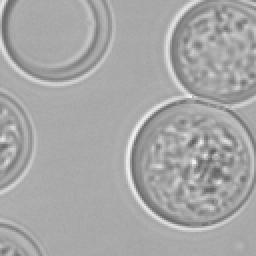picoshell: (128, 98, 252, 224), (164, 0, 254, 106), (0, 88, 36, 194), (0, 218, 44, 254)
